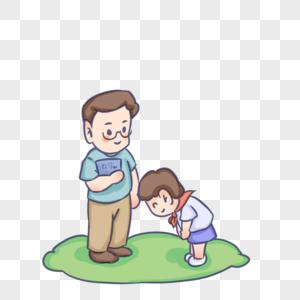bending: (140, 165, 220, 266)
up: (74, 88, 139, 264)
